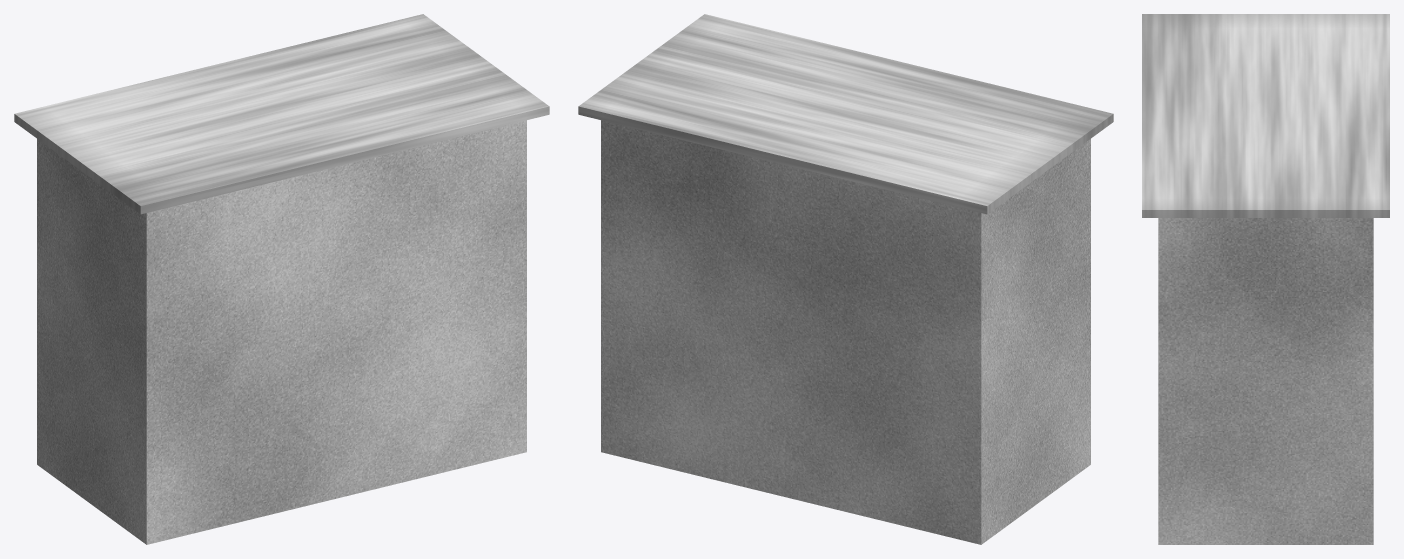
The model's file is ShopCounterTop.fbx.
The picture shows the model from 3 angles, left to right: view 1: azimuth 30°, elevation 25°; view 2: azimuth 150°, elevation 25°; view 3: azimuth 270°, elevation 25°; orthographic projection.
Visible parts, largest first — view 1: pCube1; view 2: pCube1; view 3: pCube1.
Boxes of the visible parts, x1,y1,x2,y2 form: pCube1: [14, 14, 549, 544]; pCube1: [578, 14, 1113, 544]; pCube1: [1142, 14, 1389, 544].
Bounding box in the file's own units: 4.3 × 3.5 × 2.3.
